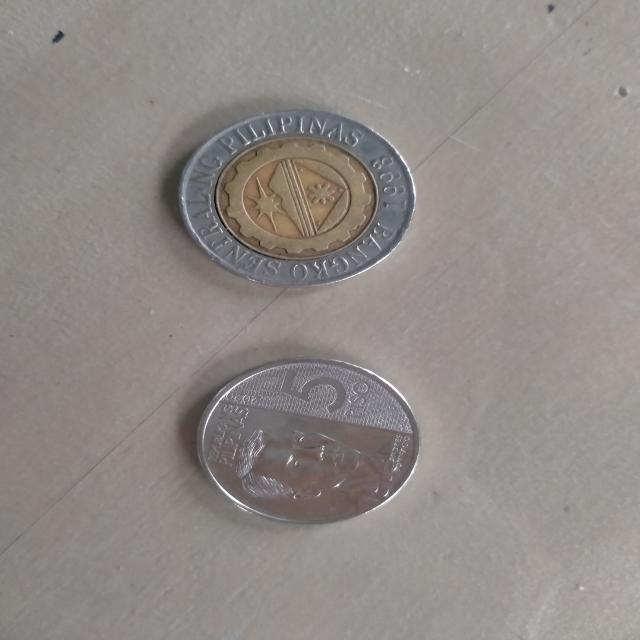10_Old_Back: (176, 105, 412, 283)
5_New_Front: (271, 362, 381, 431)
